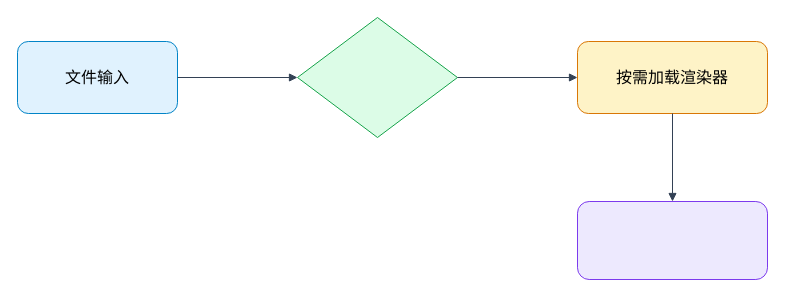
Some shapes in this 785 by 297 pixel diagram are drawn without their labels. The shapes that lost their labels are listed below. From the top down, each one's centre as x and y in pixels, then its label:
At (377,77): "扩展名识别".
At (672,240): "SVG / Canvas / DOM 预览".
